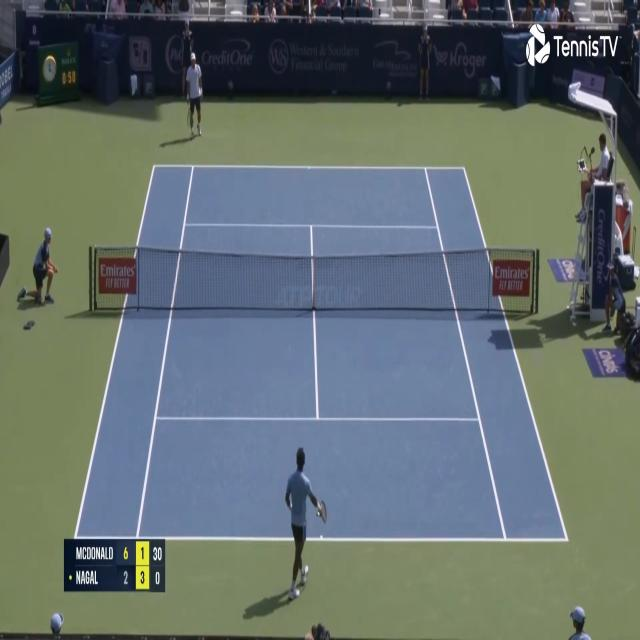tennis-player: (283, 443, 328, 604), (182, 50, 205, 141)
